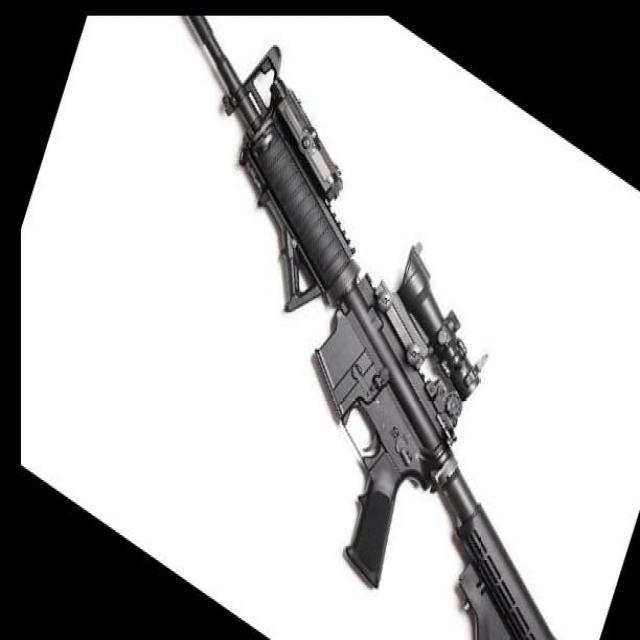weapon: (187, 14, 557, 640)
